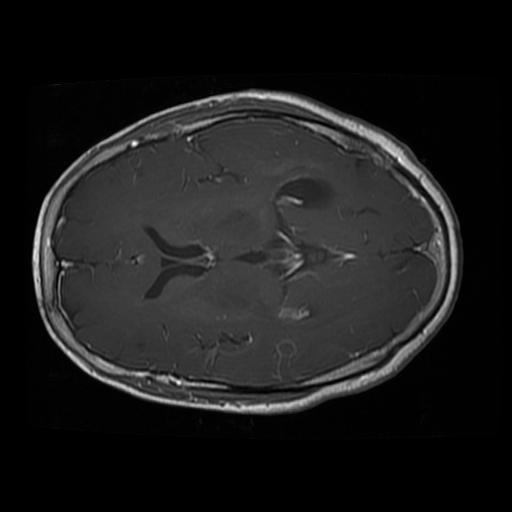glioma: (274, 175, 336, 208)
